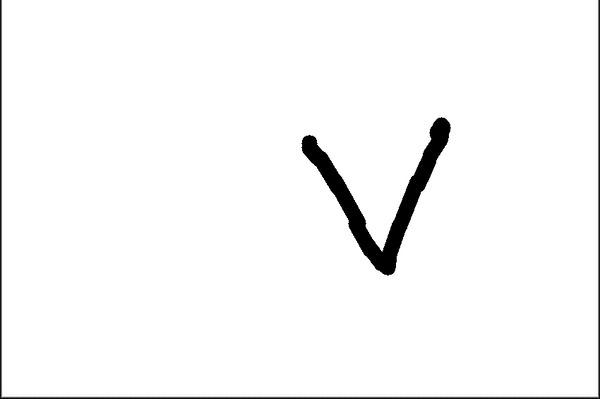V: (301, 115, 463, 276)
